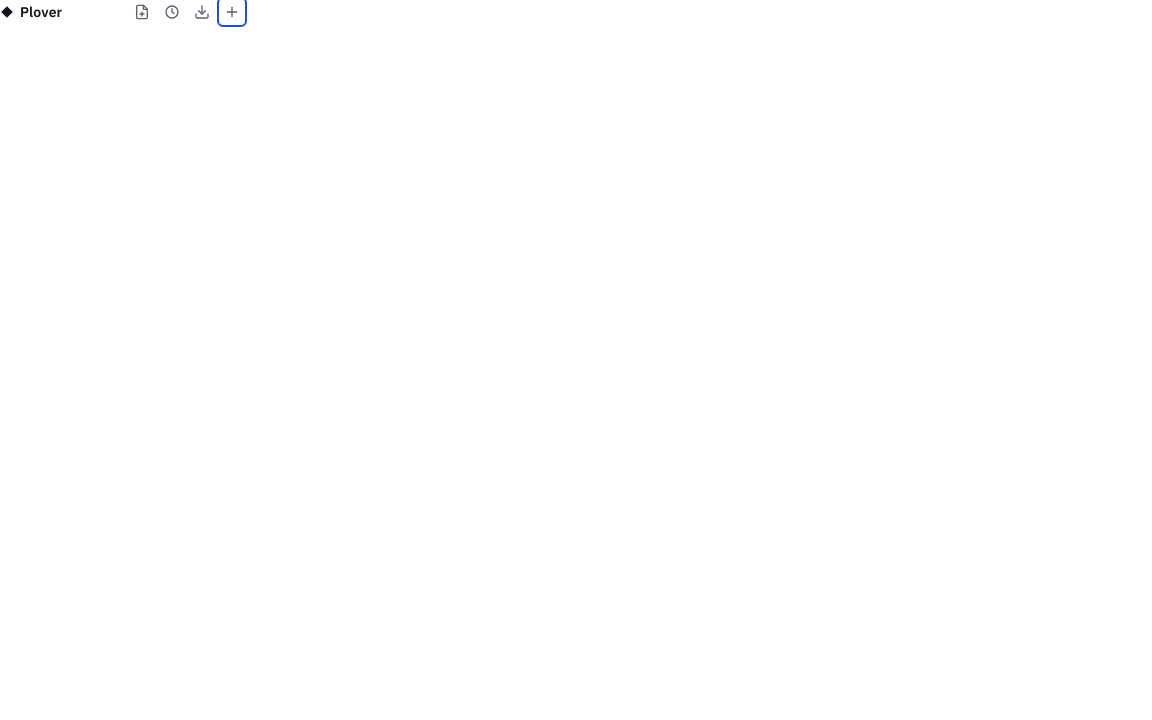
Test case: open collection popover › moves focus in, closes on Escape and returns focus to +
This screenshot has width=1152, height=720.
Click the button named "Open collection".
click(232, 12)  # box [220, 0, 244, 24]
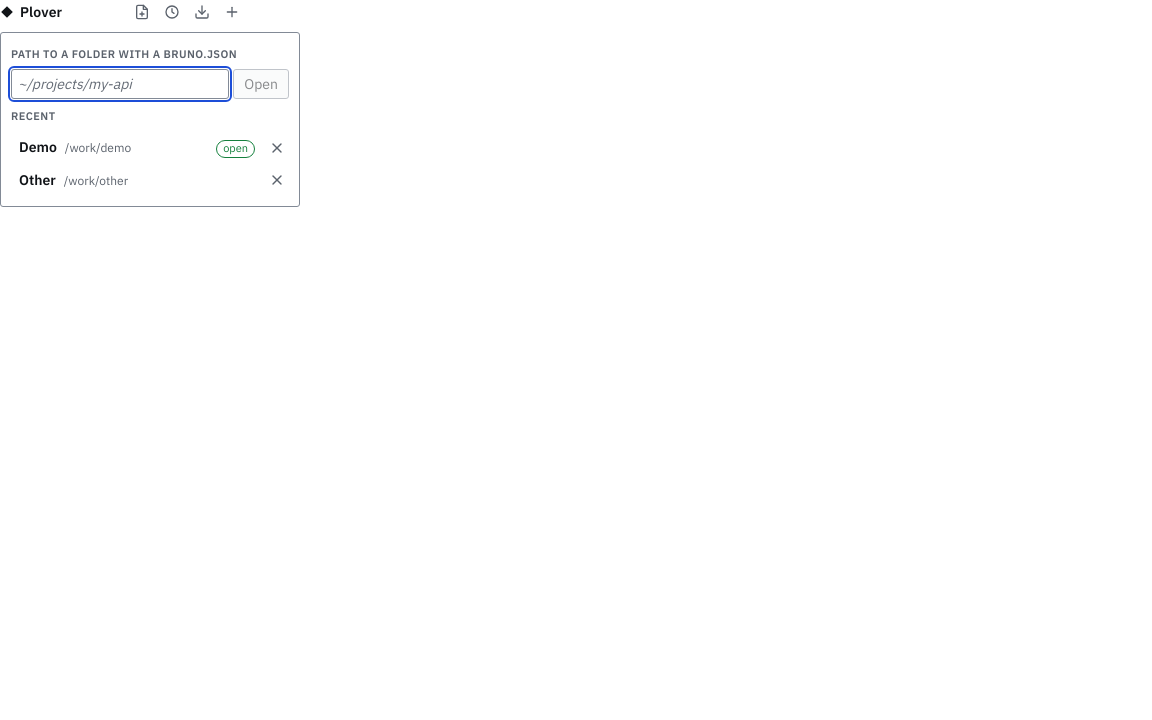
Press Escape in the field with placeholder "~/projects/my-api", box [11, 69, 229, 99]
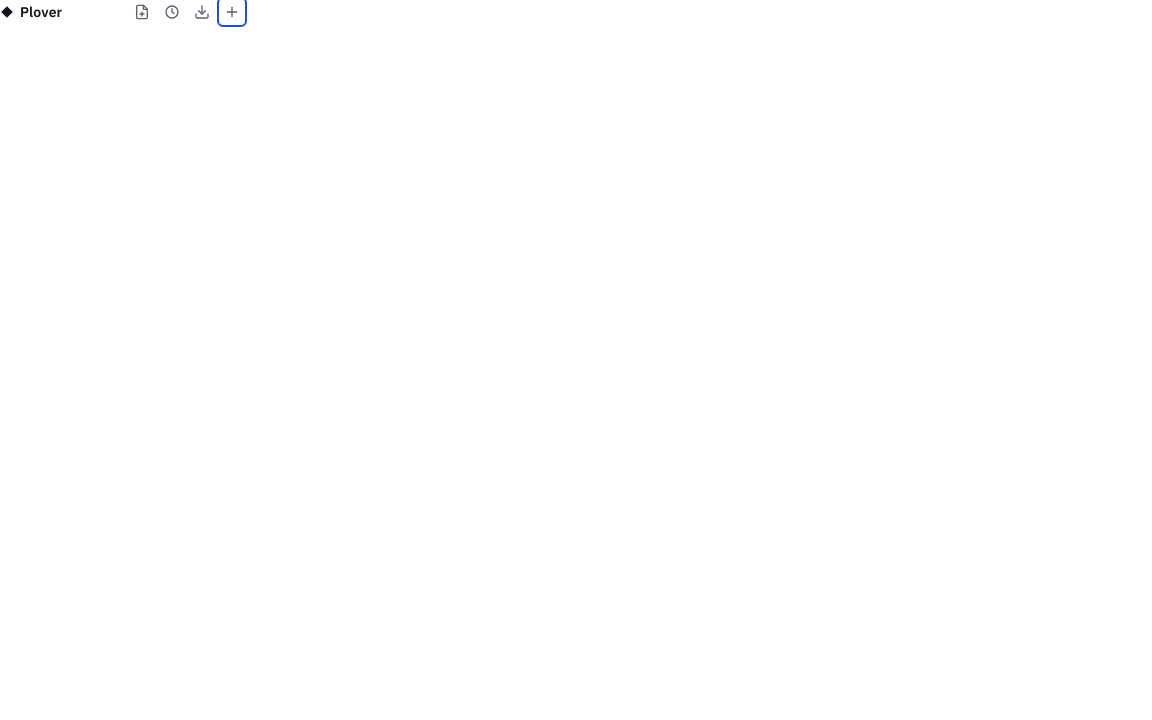
Check: the dialog is gone
